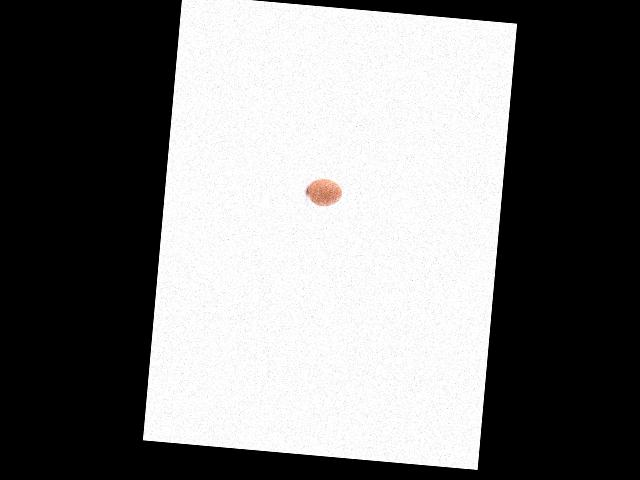egg: (306, 177, 343, 208)
